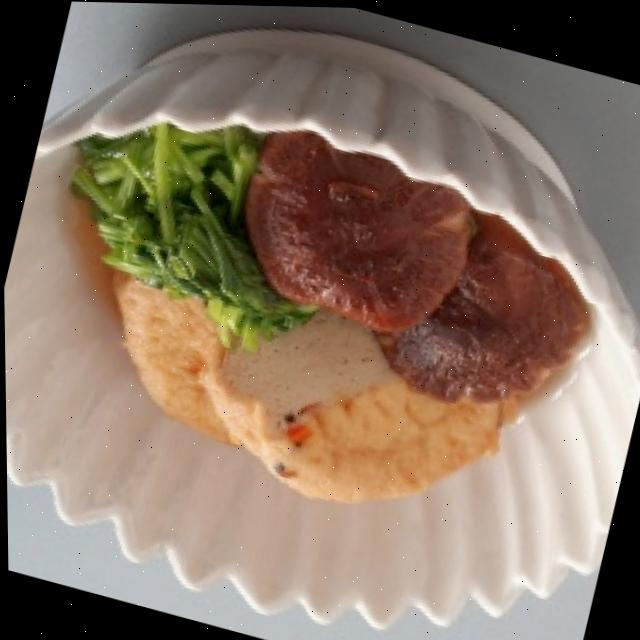熟制海鲜: (1, 127, 538, 568)
